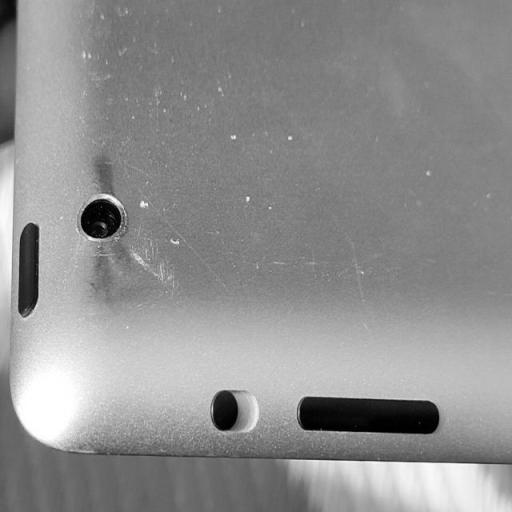phone: (12, 0, 511, 464)
